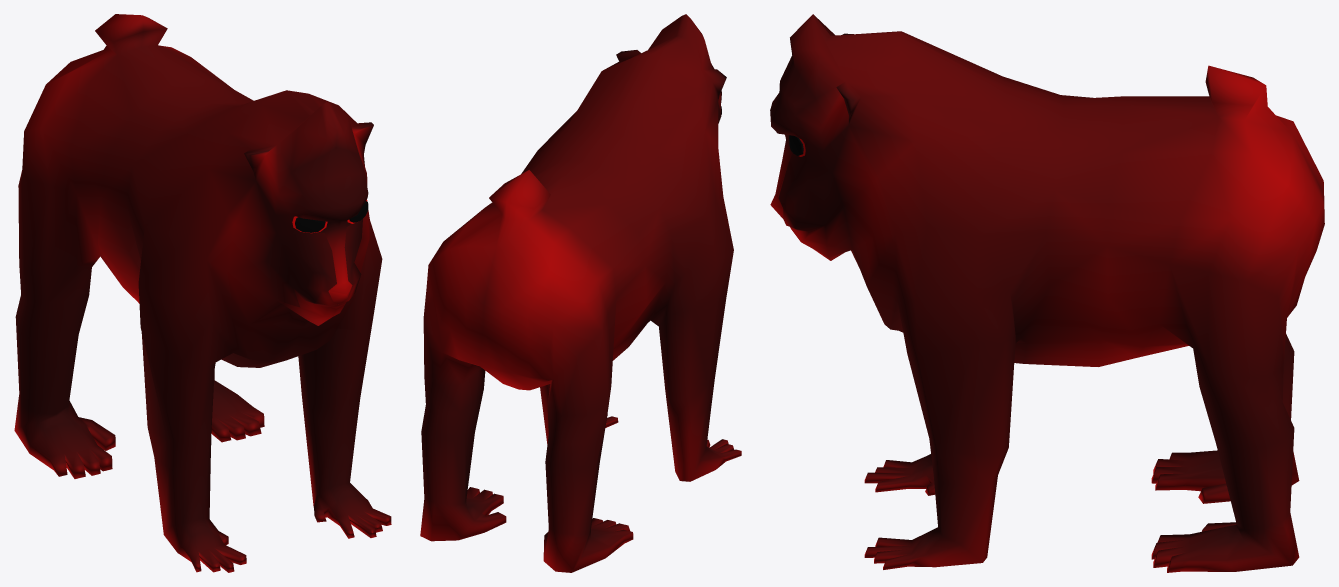
File: Animals_Mandrill.fbx
3 views of the same model, side by side, from view 1: azimuth 30°, elevation 25°; view 2: azimuth 150°, elevation 25°; view 3: azimuth 270°, elevation 25° (orthographic). The views are drawn at different scales.
Visible parts, largest first — view 1: base; view 2: base; view 3: base.
Part boxes in pixels (left/top/right/bottom): base: left=14, top=14, right=391, bottom=572; base: left=420, top=14, right=741, bottom=572; base: left=770, top=14, right=1324, bottom=572.
Size of the model in its own units: 54.21 by 109 by 109.
